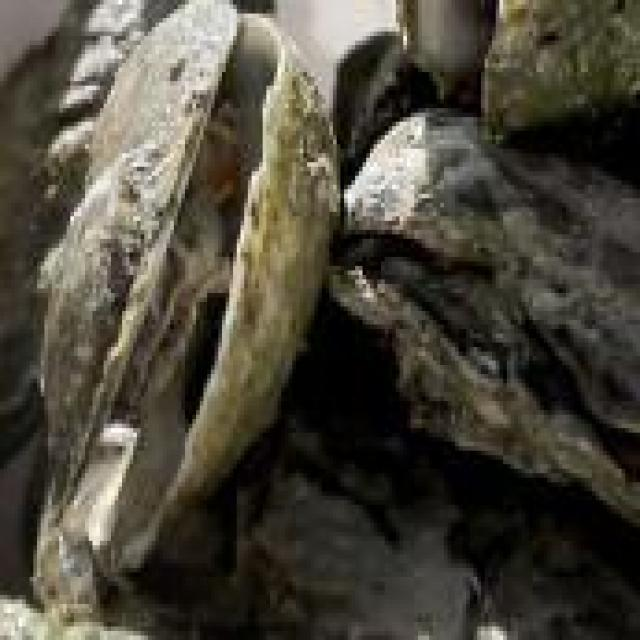Oyster-Open: (31, 5, 341, 622), (330, 111, 640, 529), (236, 421, 469, 614), (363, 0, 640, 129)
